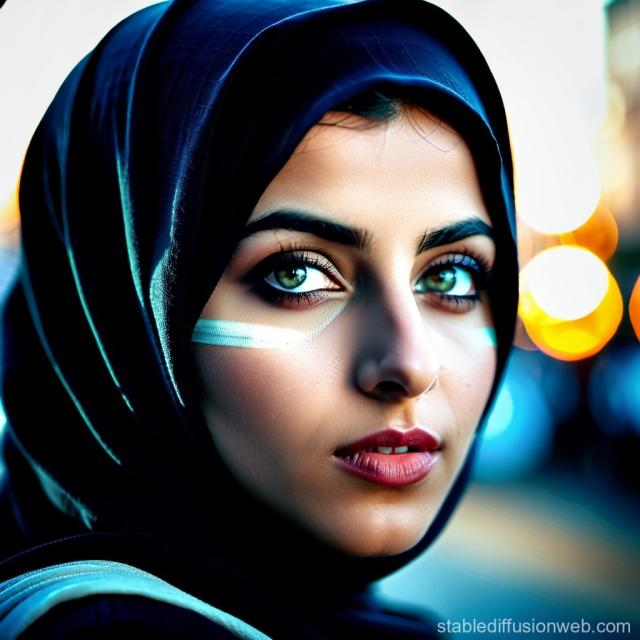front: (247, 210, 506, 540)
